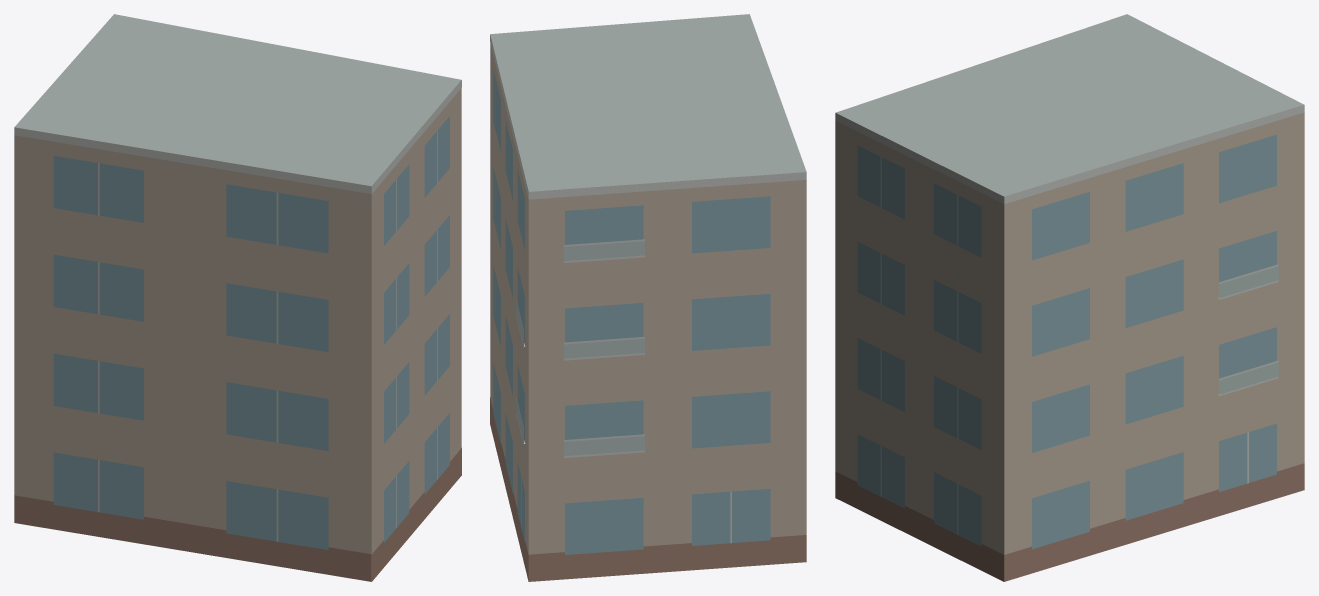
File: survey-upis-33039822.glb
The picture shows the model from 3 angles, left to right: view 1: azimuth 30°, elevation 25°; view 2: azimuth 150°, elevation 25°; view 3: azimuth 270°, elevation 25°; orthographic projection. The views are drawn at different scales.
Parts seen in each view (by area): view 1: survey-upis-33039822.tmp; view 2: survey-upis-33039822.tmp; view 3: survey-upis-33039822.tmp.
Boxes of the visible parts, x1,y1,x2,y2 form: survey-upis-33039822.tmp: (14,14,461,581); survey-upis-33039822.tmp: (490,14,806,581); survey-upis-33039822.tmp: (835,14,1304,581).
Size of the model in its own units: 12.51 by 12.3 by 13.59.
